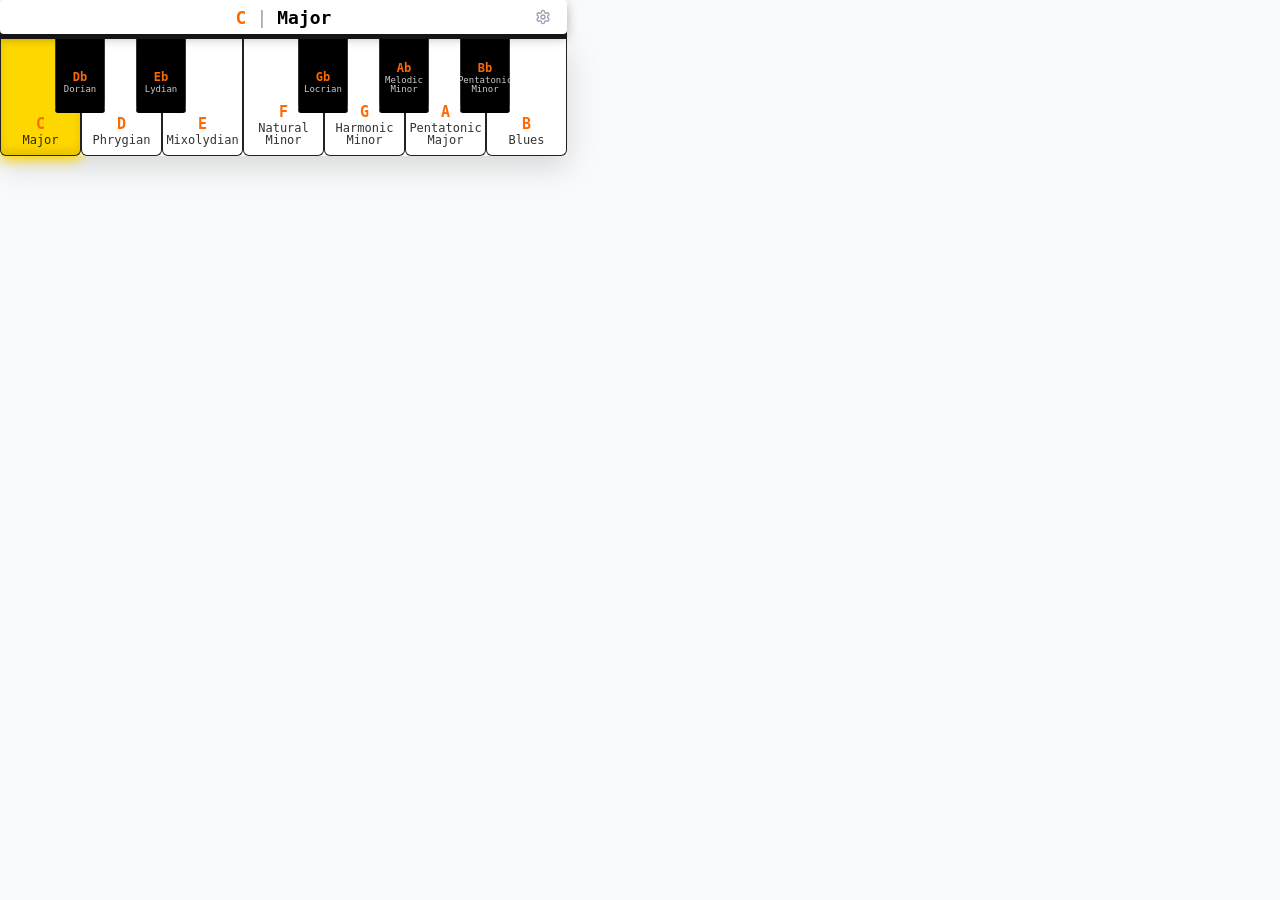
ScaleKeySwitches12 Settings Cog › Given ScaleKeySwitches12 renders, Assert the Settings cog is present inside the #scale-key-switches-strip element and clicking it opens the modal
Expected: the element showing "C | Major" is shown, x1=0 y1=0 x2=567 y2=34
Expected: the text "Scale Change Settings" is not shown
// Click the settings cog
Click the button named "Scale Change Settings" at (543, 17), box x1=531 y1=5 x2=555 y2=29
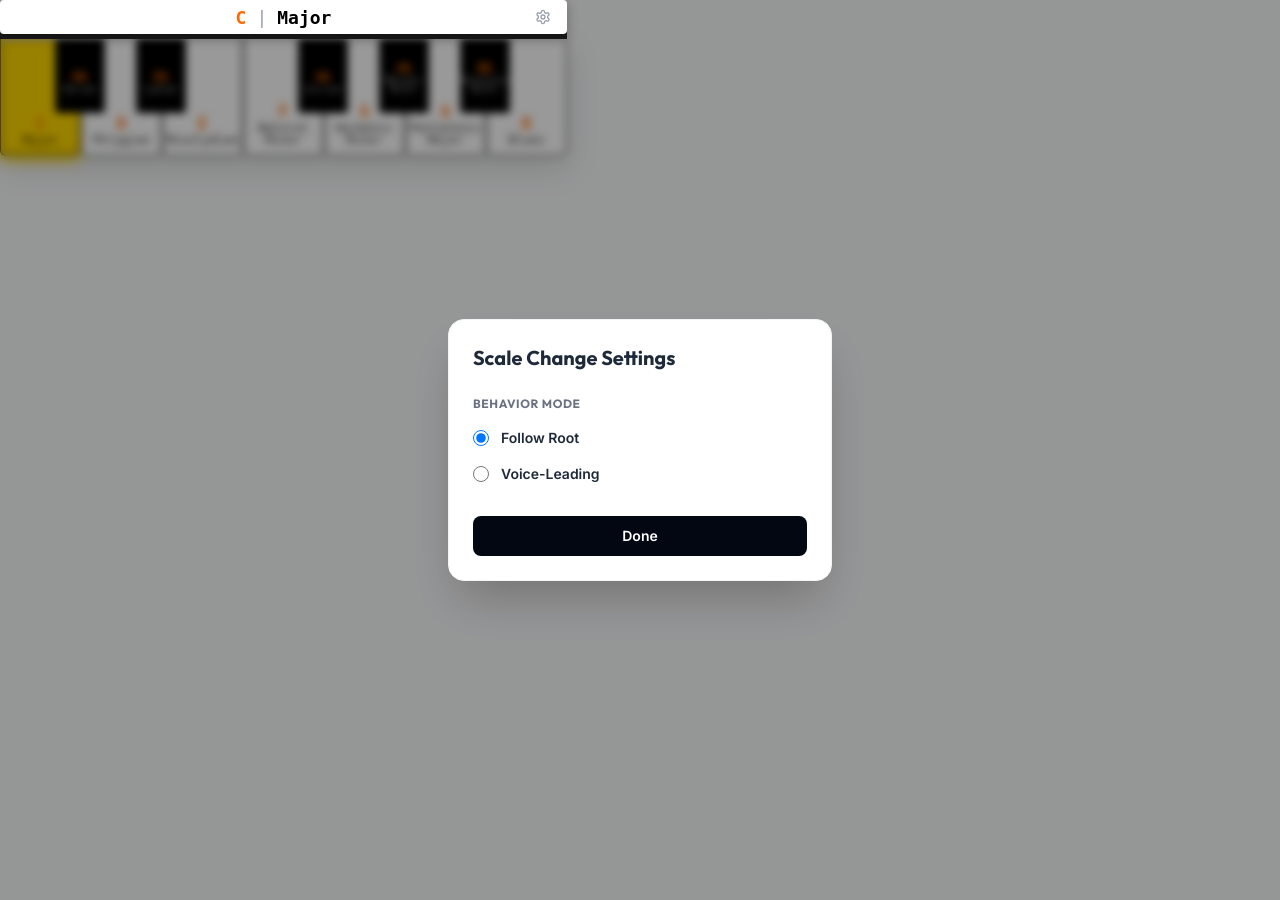
Now the heading "Scale Change Settings" is shown, box x1=473 y1=345 x2=675 y2=370
